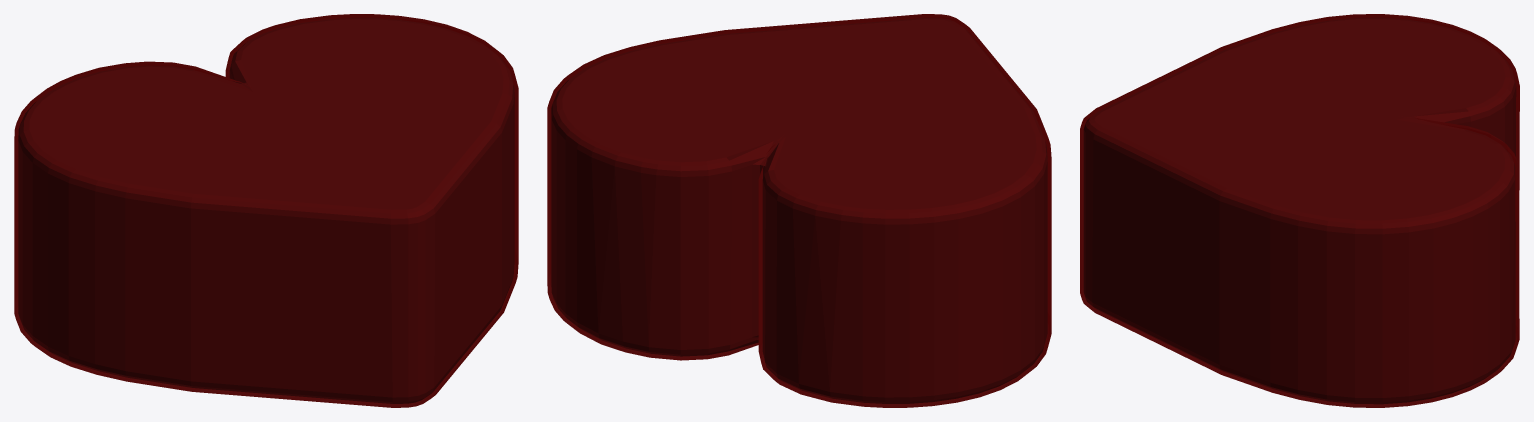
File: coracao chocolate amargo.glb
3 renders of one model, left to right at view 1: azimuth 30°, elevation 25°; view 2: azimuth 150°, elevation 25°; view 3: azimuth 270°, elevation 25°, orthographic. The views are drawn at different scales.
Parts seen in each view (by area): view 1: Circle.007; view 2: Circle.007; view 3: Circle.007.
Part boxes in pixels (x1,y1,x2,y2): Circle.007: (14, 14, 518, 407); Circle.007: (547, 14, 1051, 407); Circle.007: (1080, 14, 1519, 407).
Size of the model in its own units: 24.16 by 10 by 21.03.
